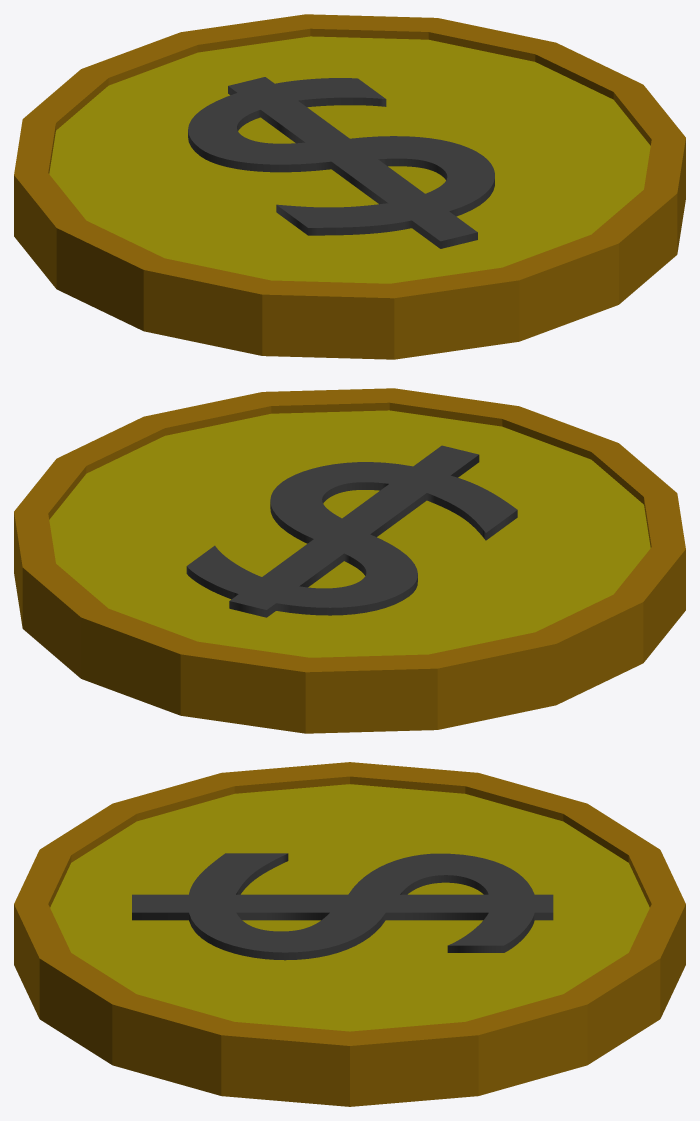
The model's file is coin.fbx.
3 views of the same model, one above another, from view 1: azimuth 30°, elevation 25°; view 2: azimuth 150°, elevation 25°; view 3: azimuth 270°, elevation 25° (orthographic).
Visible parts, largest first — view 1: Cylinder.001, Cylinder, Text.001; view 2: Cylinder.001, Cylinder, Text.001; view 3: Cylinder.001, Cylinder, Text.001.
Boxes of the visible parts, x1=… form: Cylinder.001: x1=49, y1=36, x2=650, y2=283; Cylinder: x1=14, y1=14, x2=685, y2=359; Text.001: x1=188, y1=77, x2=494, y2=248; Cylinder.001: x1=49, y1=410, x2=650, y2=657; Cylinder: x1=14, y1=388, x2=685, y2=733; Text.001: x1=186, y1=445, x2=517, y2=617; Cylinder.001: x1=50, y1=784, x2=649, y2=1031; Cylinder: x1=14, y1=762, x2=685, y2=1106; Text.001: x1=132, y1=853, x2=553, y2=960.
Bounding box in the file's own units: 200 × 20 × 200.
